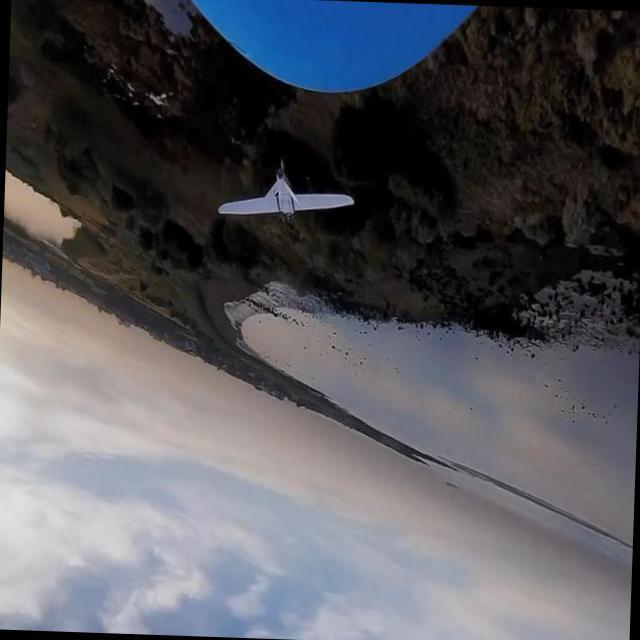iha: (162, 165, 359, 226)
